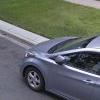Car: (15, 28, 99, 99)
